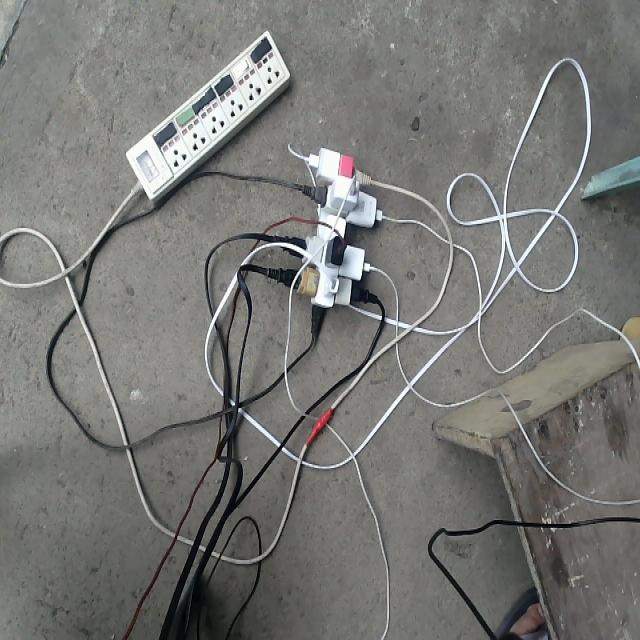-: (272, 148, 381, 336)
